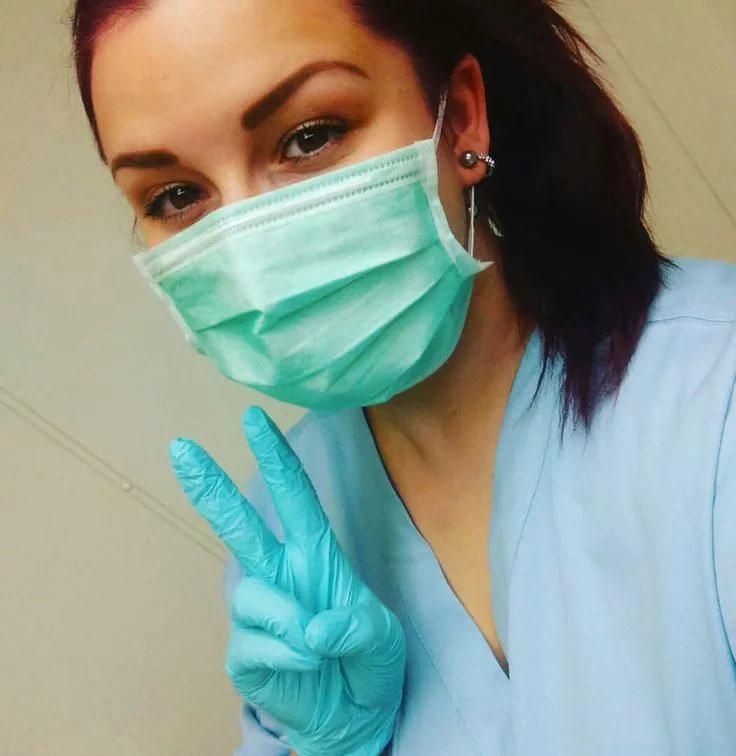mask: (116, 13, 470, 413)
